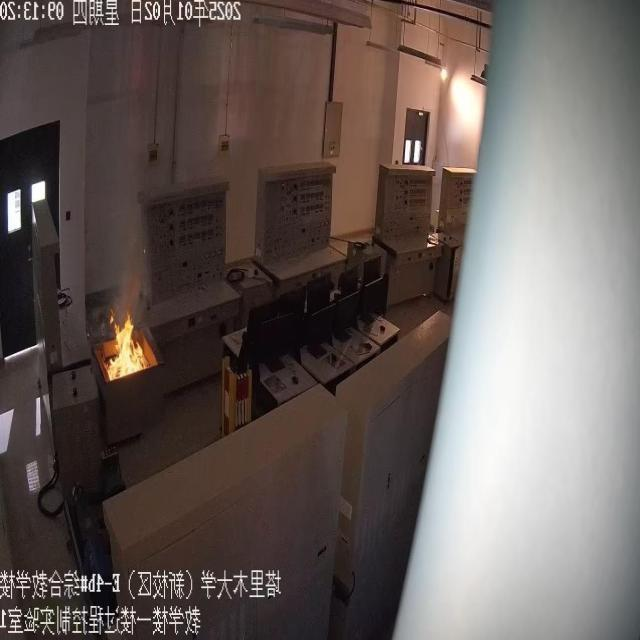smoke: (101, 296, 148, 379)
